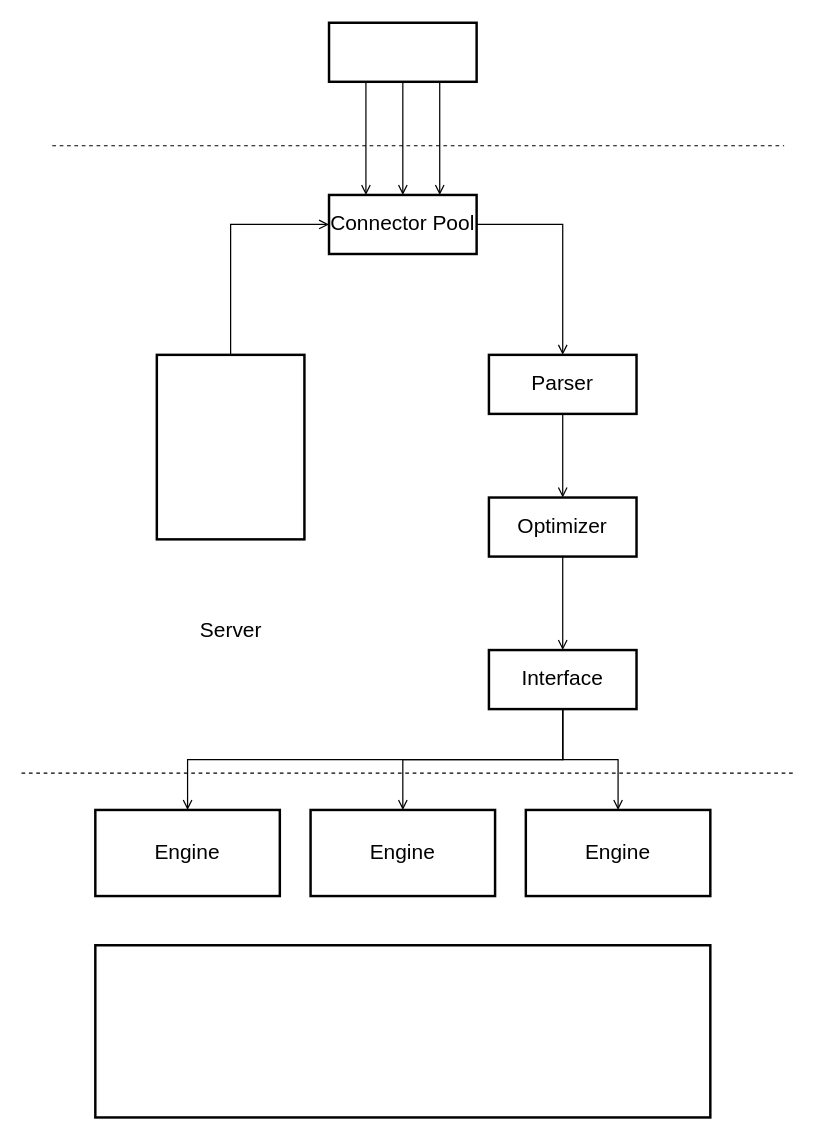
Image size: 819x1139. Some labels were removed from this diagram. The centre of each missing label's shape, as x and y in pixels:
Cache: pixel 230 446
Client: pixel 402 51
FileSystem: pixel 402 1030
